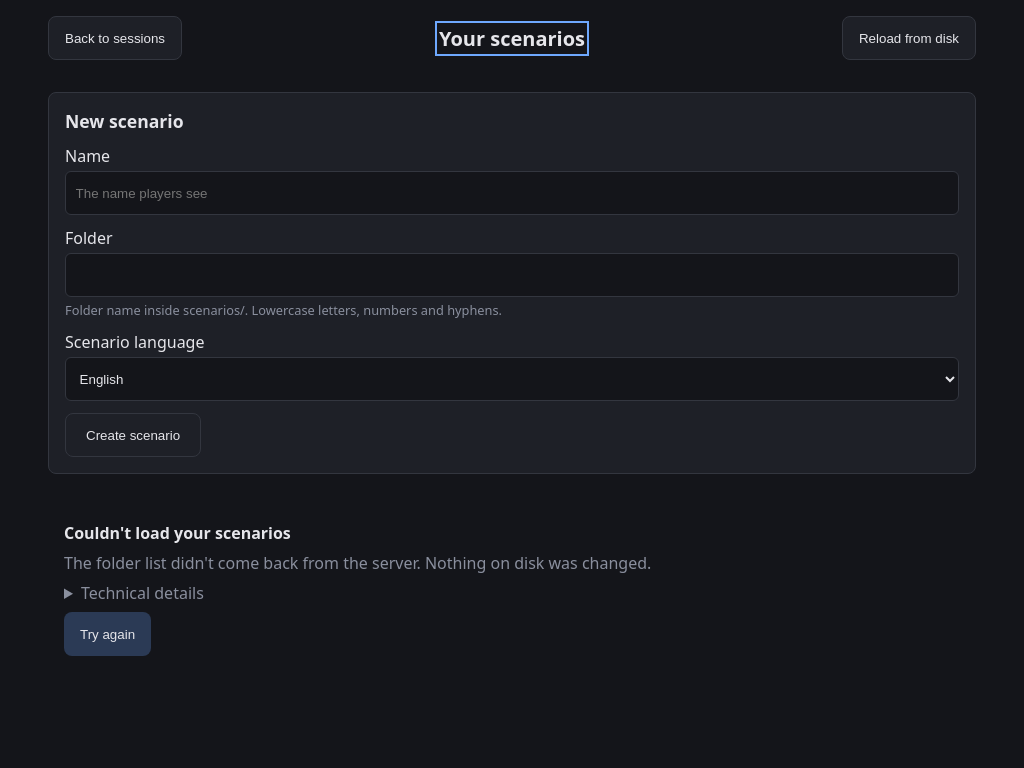
BuilderListScreen › shows an ErrorState with working retry when the GET returns 500
The width and height of the screenshot is (1024, 768).
What coordinates should you click on to do the following:
click the button "Try again"
I would click on:
 (108, 634)
Its box is [64,612,151,656].
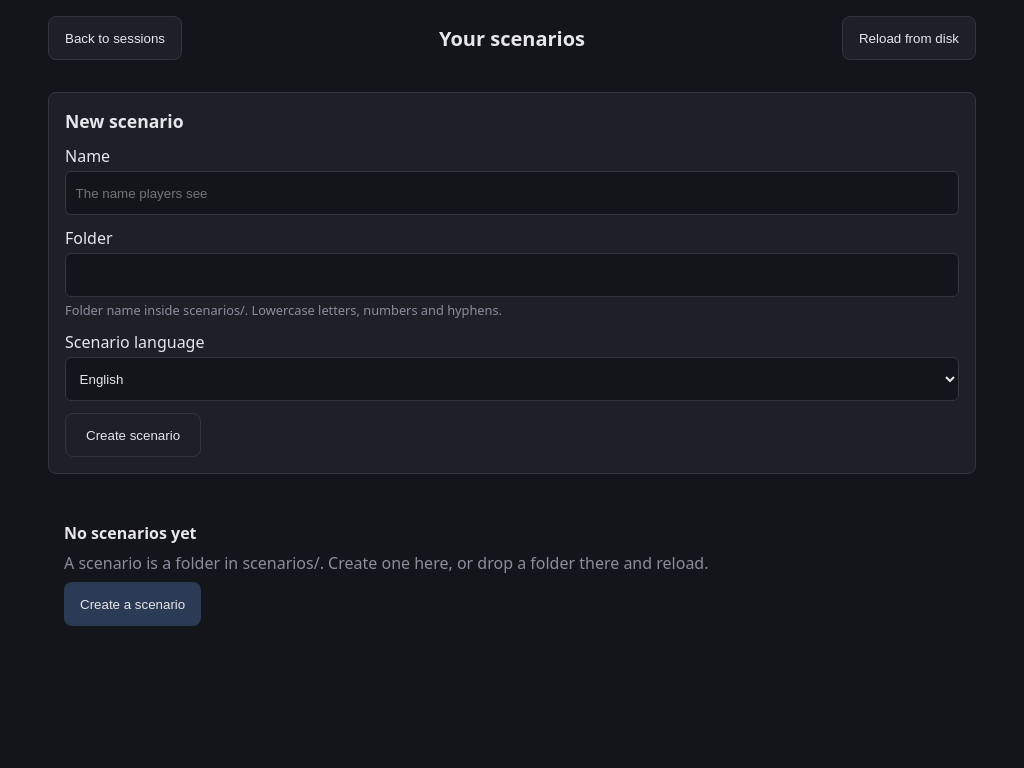
Check: the text "No scenarios yet" is shown, box [64,522,196,544]
